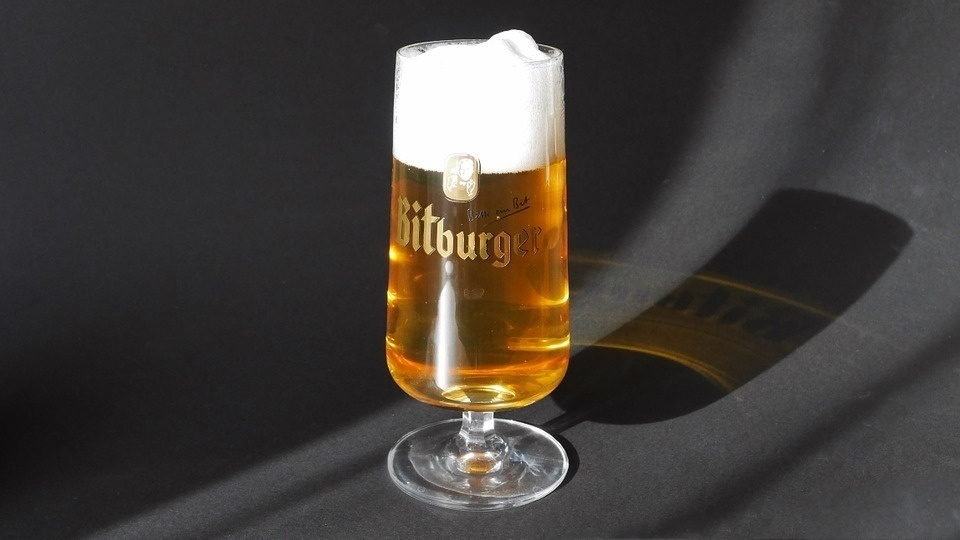whiskey: (392, 40, 564, 492)
